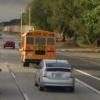buses: (20, 28, 57, 69)
